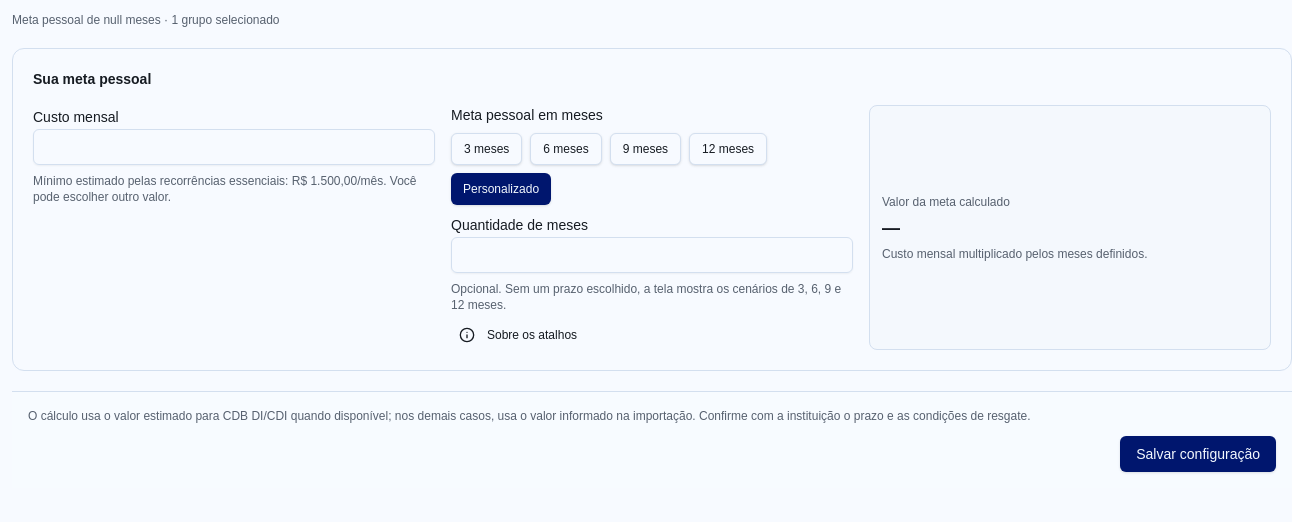
Test: EmergencyReserveEditor › shows a validation message when the cost is invalid
Type "0" into the number field labelled "Custo mensal".
click(234, 147); type("0")  # box [33,129,435,165]
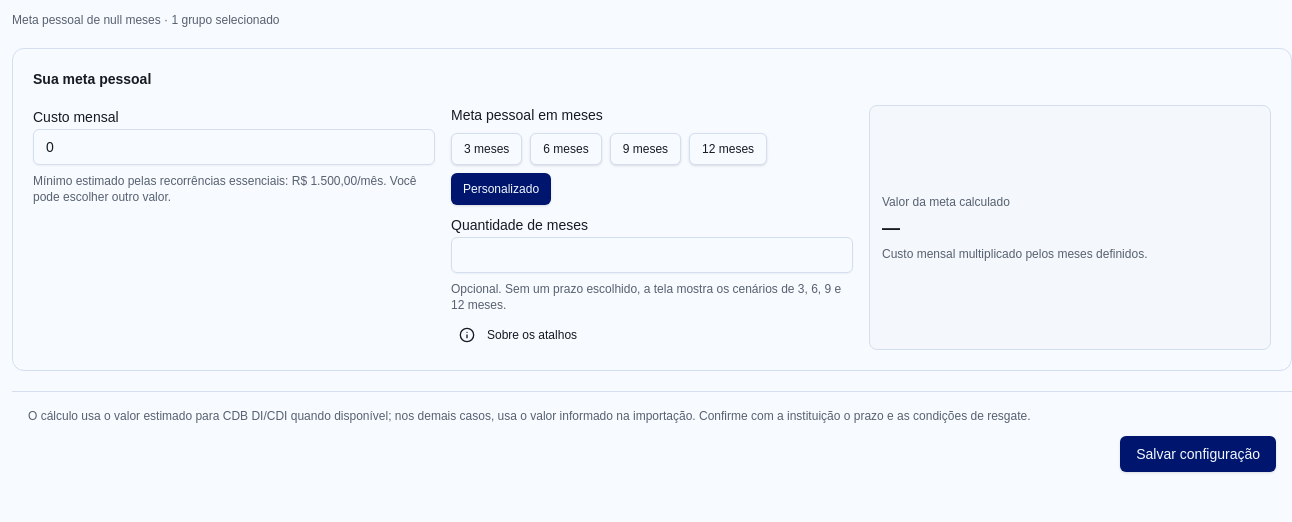
Submit the form named "Salvar configuração"
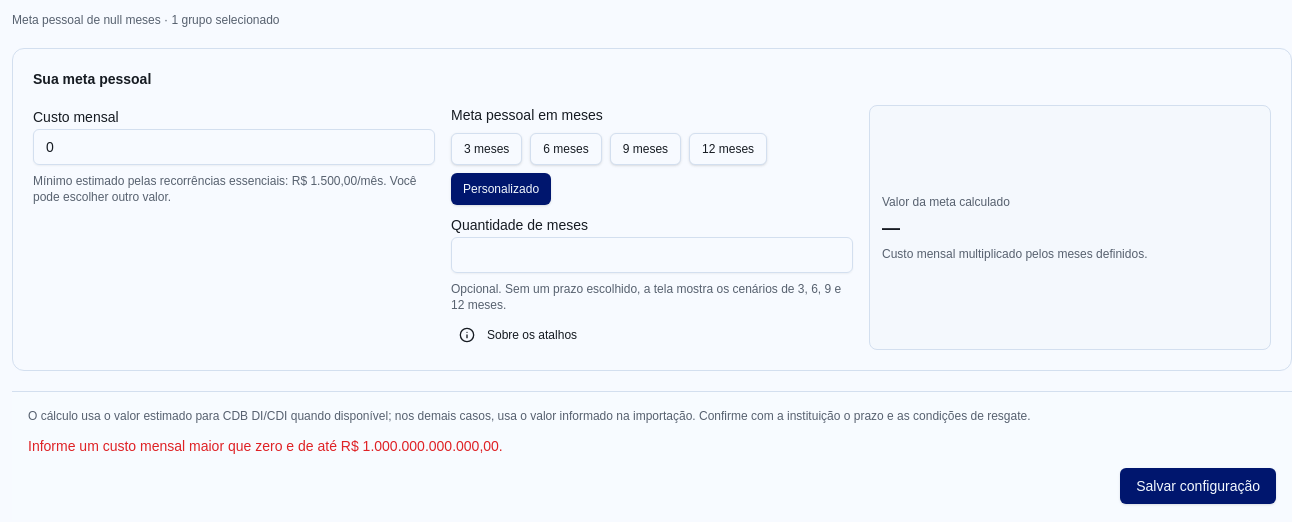
Expected: the message "Informe um custo mensal maior que zero e de até R$ 1.000.000.000.000,00." is shown, [28,438,503,454]
